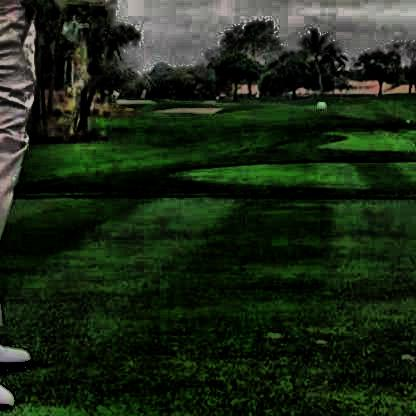golfball: (314, 99, 323, 108)
